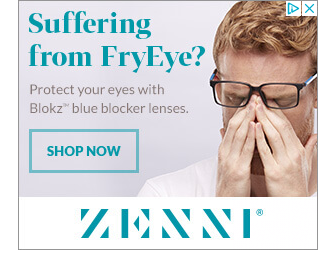fake_button: (27, 124, 142, 179), (269, 1, 325, 22)
